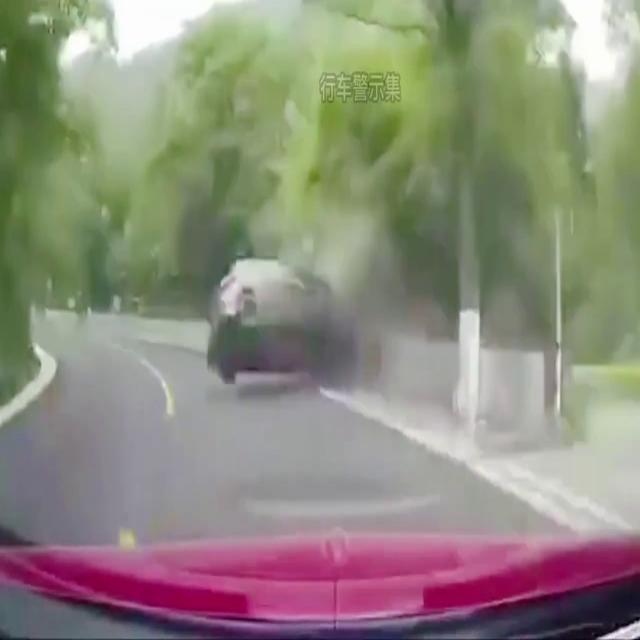single accident: (188, 197, 417, 413)
